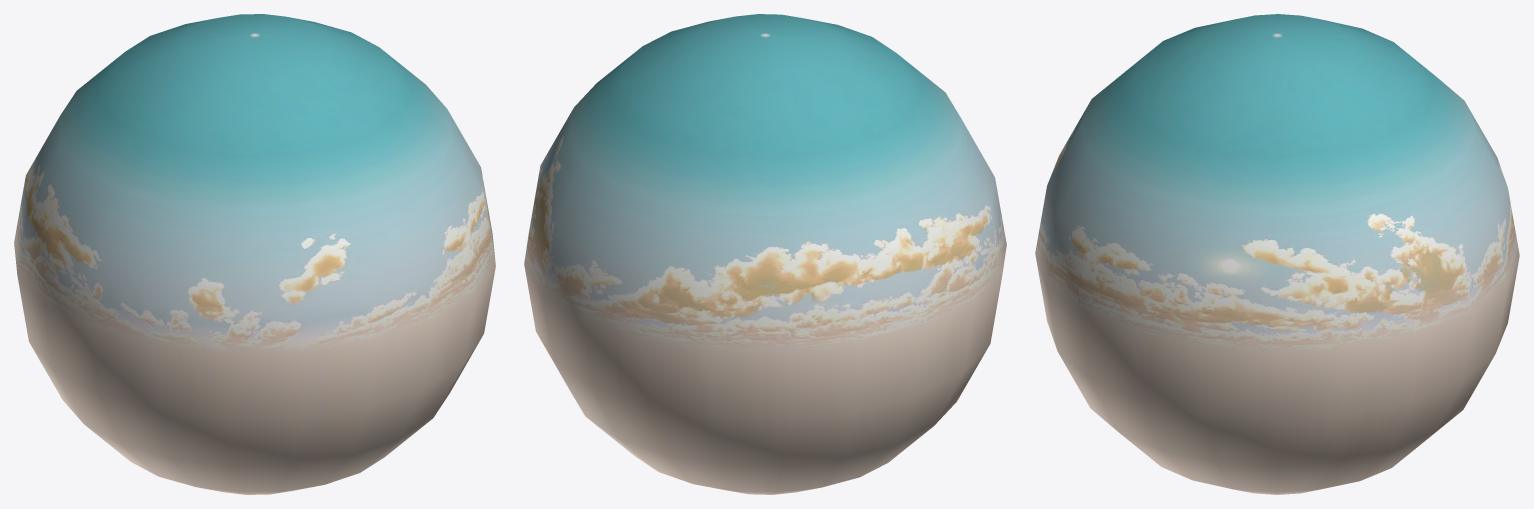
File: paris-bis-transformed.glb
3 renders of one model, left to right at view 1: azimuth 30°, elevation 25°; view 2: azimuth 150°, elevation 25°; view 3: azimuth 270°, elevation 25°, orthographic.
Parts seen in each view (by area): view 1: Gmob_Paris_VR_M_Mobp1_VR_0; view 2: Gmob_Paris_VR_M_Mobp1_VR_0; view 3: Gmob_Paris_VR_M_Mobp1_VR_0.
Boxes of the visible parts, left/top/right/bottom form: Gmob_Paris_VR_M_Mobp1_VR_0: left=14, top=14, right=495, bottom=494; Gmob_Paris_VR_M_Mobp1_VR_0: left=524, top=14, right=1006, bottom=494; Gmob_Paris_VR_M_Mobp1_VR_0: left=1035, top=14, right=1519, bottom=494.
Size of what is drawn, in the model's own units: 86.8 by 86.81 by 86.8.
10 materials, 8 textured.
